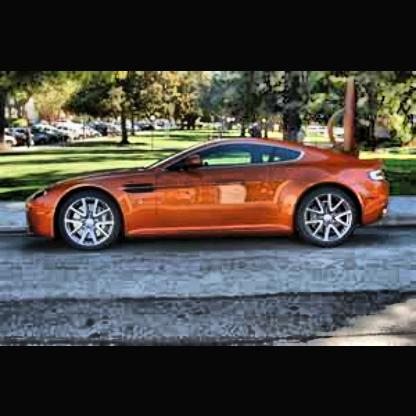Aston Martin V8 Vantage Coupe 2012: (30, 133, 390, 255)
